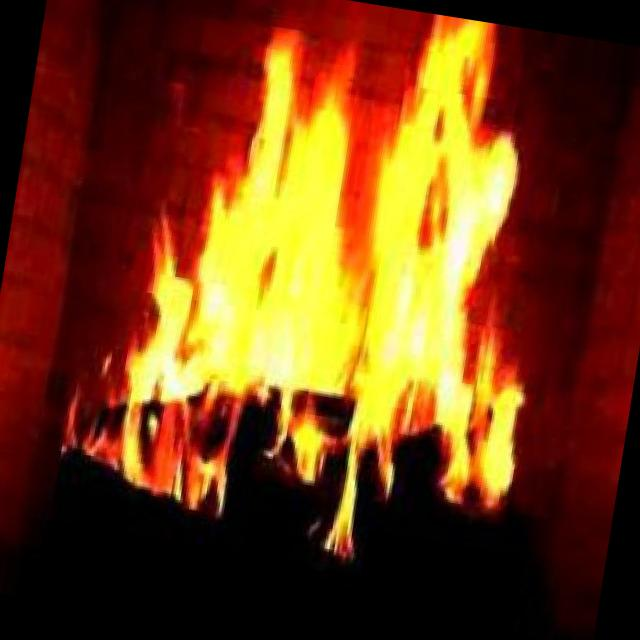Fire: (42, 0, 587, 600)
